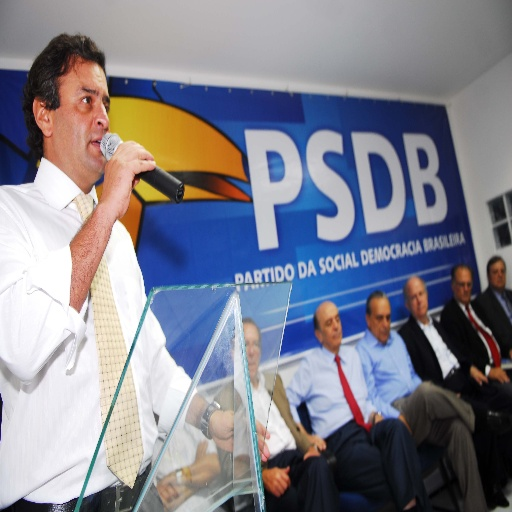hand: (78, 131, 140, 263), (206, 410, 270, 464), (262, 464, 291, 497), (469, 365, 489, 388), (490, 366, 510, 385), (309, 432, 327, 452), (194, 438, 210, 460), (302, 446, 320, 461)
